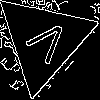V: (18, 16, 73, 72)
